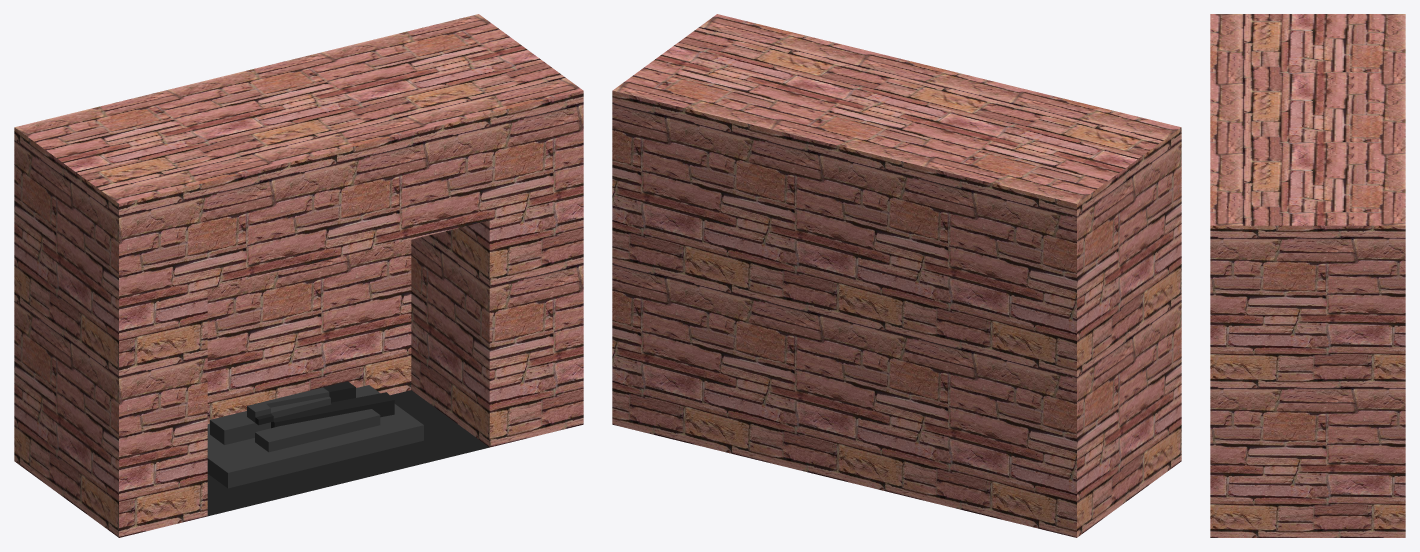
Rendered from Fireplace.dae.
The picture shows the model from 3 angles, left to right: view 1: azimuth 30°, elevation 25°; view 2: azimuth 150°, elevation 25°; view 3: azimuth 270°, elevation 25°; orthographic projection. The views are drawn at different scales.
Visible parts, largest first — view 1: SketchUp (×6); view 2: SketchUp; view 3: SketchUp.
Boxes of the visible parts, x1=… form: SketchUp (×6): x1=14, y1=14, x2=583, y2=537; SketchUp: x1=612, y1=14, x2=1181, y2=537; SketchUp: x1=1210, y1=14, x2=1405, y2=537.
Size of the model in its own units: 145 by 56.69 by 99.81.
4 materials, 1 textured.
